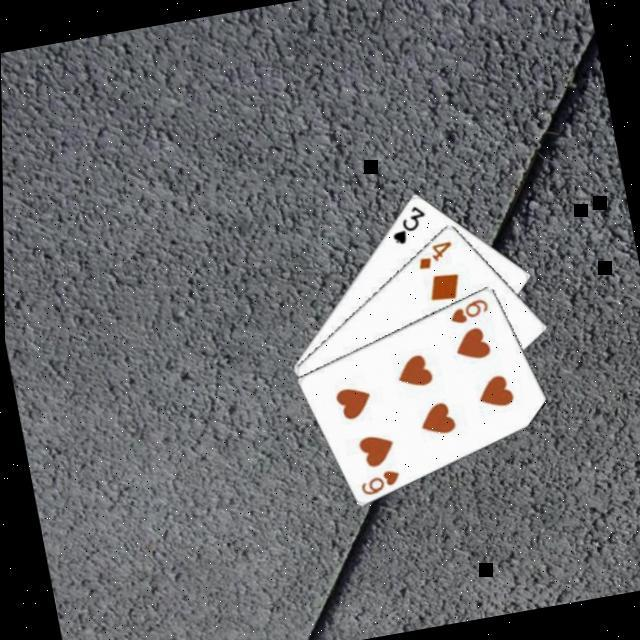3S: (384, 201, 433, 248)
4D: (411, 236, 458, 274)
6H: (354, 464, 404, 500), (444, 294, 493, 328)
